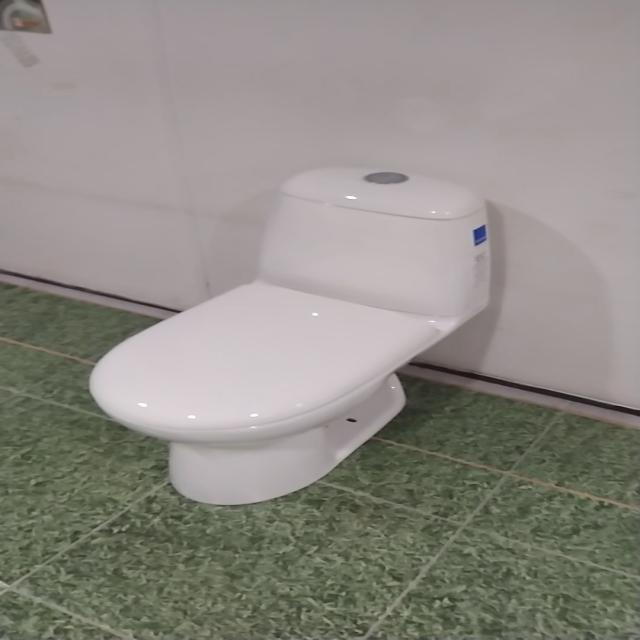toilet: (87, 166, 493, 506)
